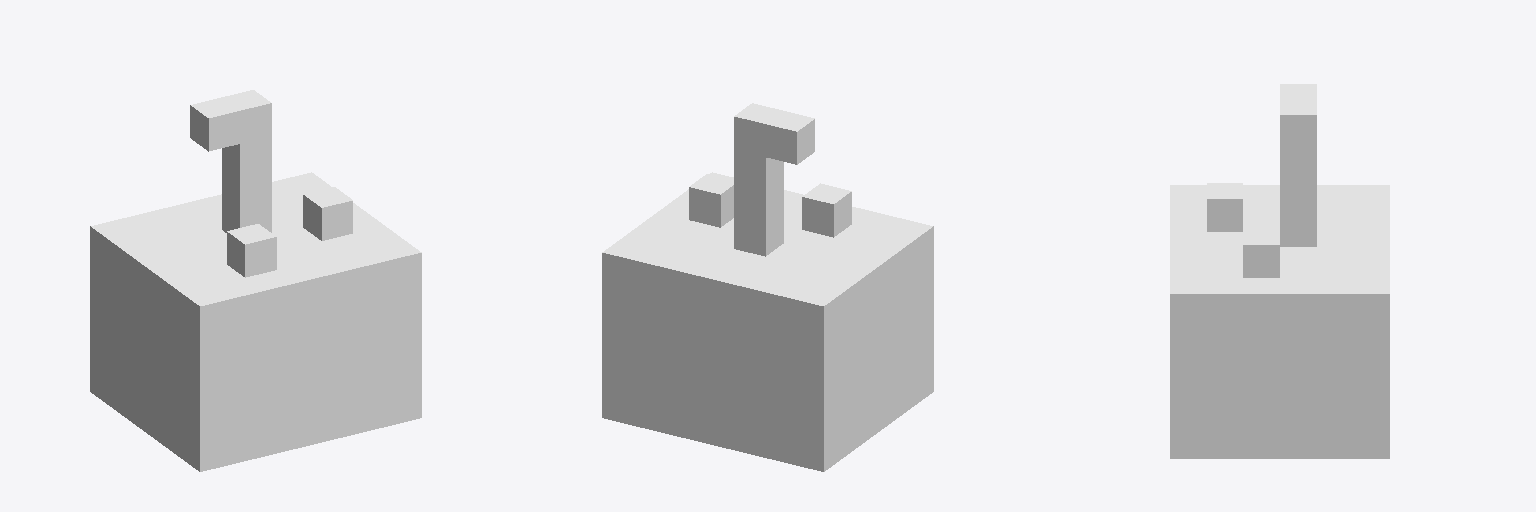
Rendered from plant1.obj.
3 views of the same model, side by side, from view 1: azimuth 30°, elevation 25°; view 2: azimuth 150°, elevation 25°; view 3: azimuth 270°, elevation 25° (orthographic).
Size of the model in its own units: 0.35 by 0.45 by 0.3.